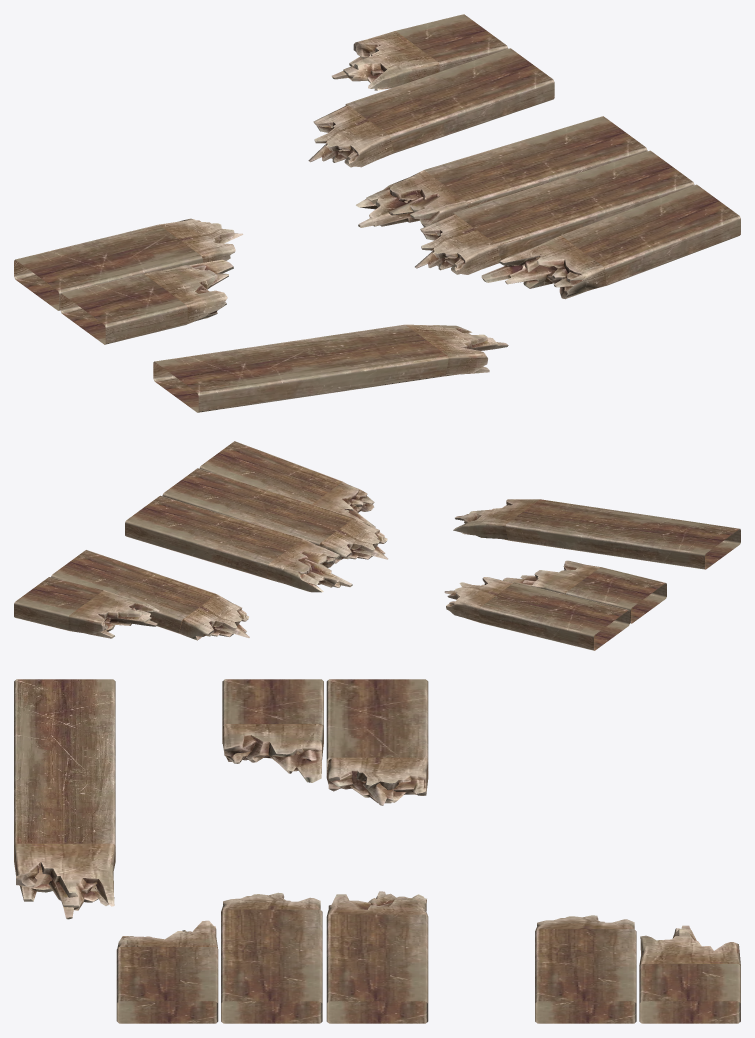
3 renders of one model, top to bottom at view 1: azimuth 30°, elevation 25°; view 2: azimuth 150°, elevation 25°; view 3: azimuth 270°, elevation 25°, orthographic. The views are drawn at different scales.
Parts seen in each view (by area): view 1: SM_BrokenWood_05_LOD0; view 2: SM_BrokenWood_05_LOD0; view 3: SM_BrokenWood_05_LOD0.
Boxes of the visible parts, left/top/right/bottom form: SM_BrokenWood_05_LOD0: left=14, top=14, right=740, bottom=412; SM_BrokenWood_05_LOD0: left=14, top=441, right=740, bottom=650; SM_BrokenWood_05_LOD0: left=14, top=679, right=740, bottom=1023.
Bounding box in the file's own units: 4.14 × 0.363 × 3.95.
1 material, 1 textured.
